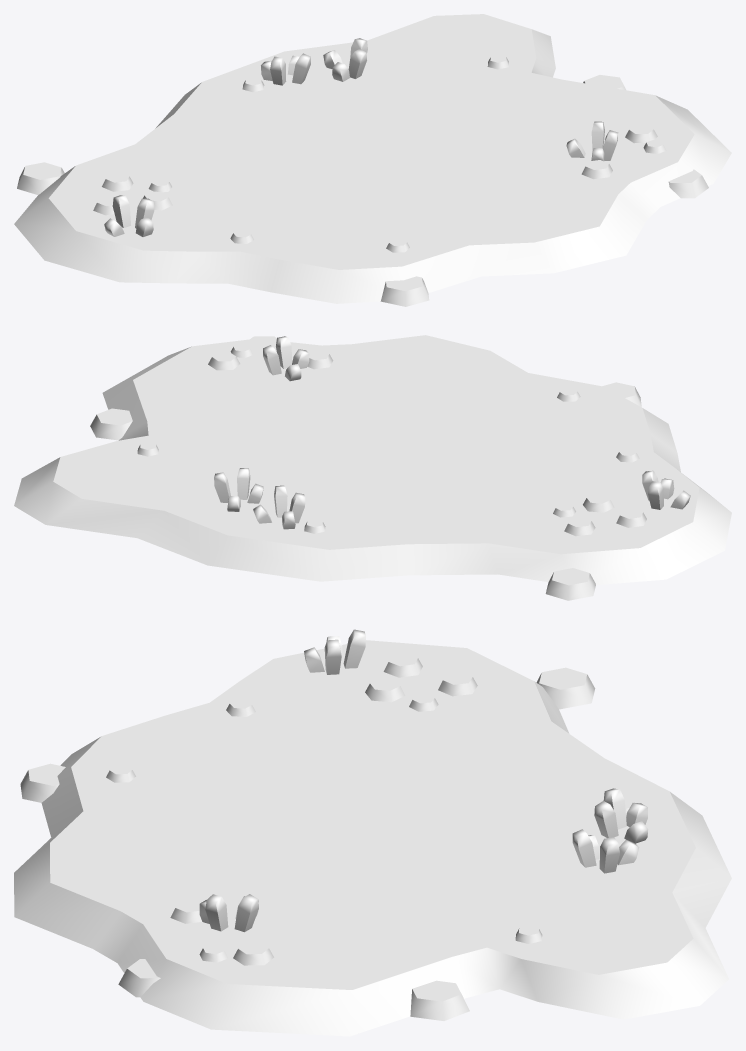
File: patch-sand-foliage.glb
The picture shows the model from 3 angles, top to bottom: view 1: azimuth 30°, elevation 25°; view 2: azimuth 150°, elevation 25°; view 3: azimuth 270°, elevation 25°; orthographic projection. The views are drawn at different scales.
Visible parts, largest first — view 1: patch-sand-foliage; view 2: patch-sand-foliage; view 3: patch-sand-foliage.
Boxes of the visible parts, <box> form: patch-sand-foliage: <box>14,14,731,306</box>; patch-sand-foliage: <box>14,335,731,600</box>; patch-sand-foliage: <box>14,629,731,1036</box>.
Size of the model in its own units: 7.74 by 0.5638 by 6.04.
Materials: 1 (1 with a texture image).
